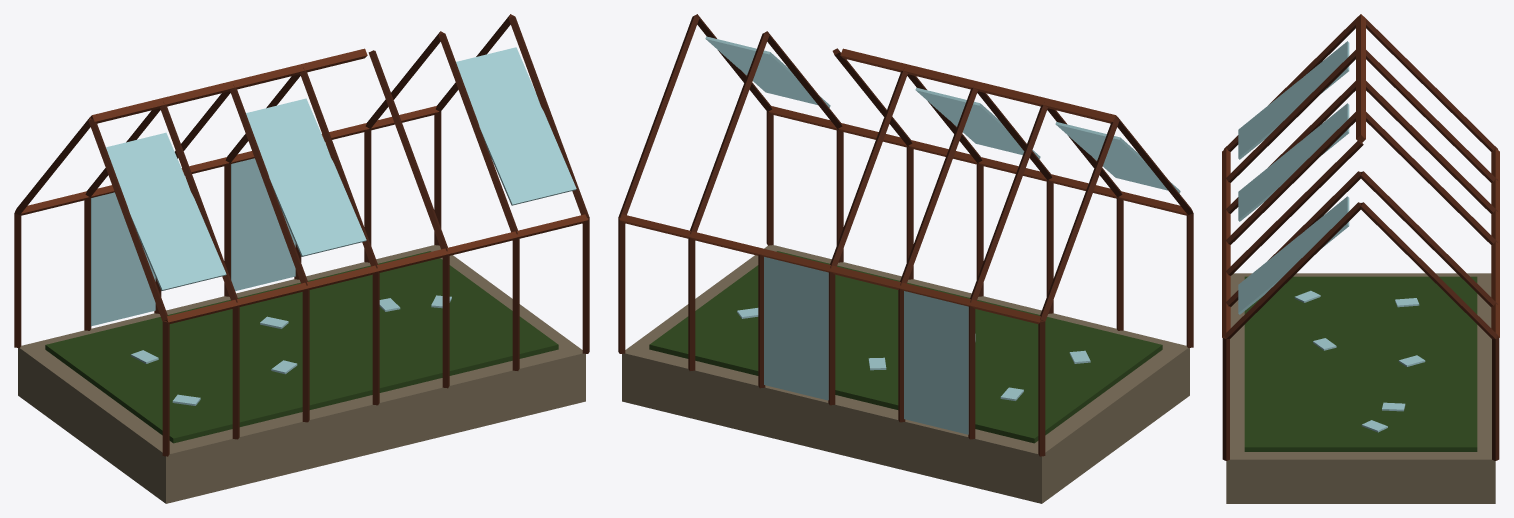
File: greenhouse_ruin.glb
3 renders of one model, left to right at view 1: azimuth 30°, elevation 25°; view 2: azimuth 150°, elevation 25°; view 3: azimuth 270°, elevation 25°, orthographic. The views are drawn at different scales.
Parts seen in each view (by area): view 1: greenhouse_ruin2; view 2: greenhouse_ruin2; view 3: greenhouse_ruin2.
Part boxes in pixels (x1=…): greenhouse_ruin2: x1=14, y1=14, x2=589, y2=503; greenhouse_ruin2: x1=618, y1=14, x2=1193, y2=503; greenhouse_ruin2: x1=1222, y1=14, x2=1499, y2=503.
Size of the model in its own units: 3.66 by 2.74 by 2.27.
